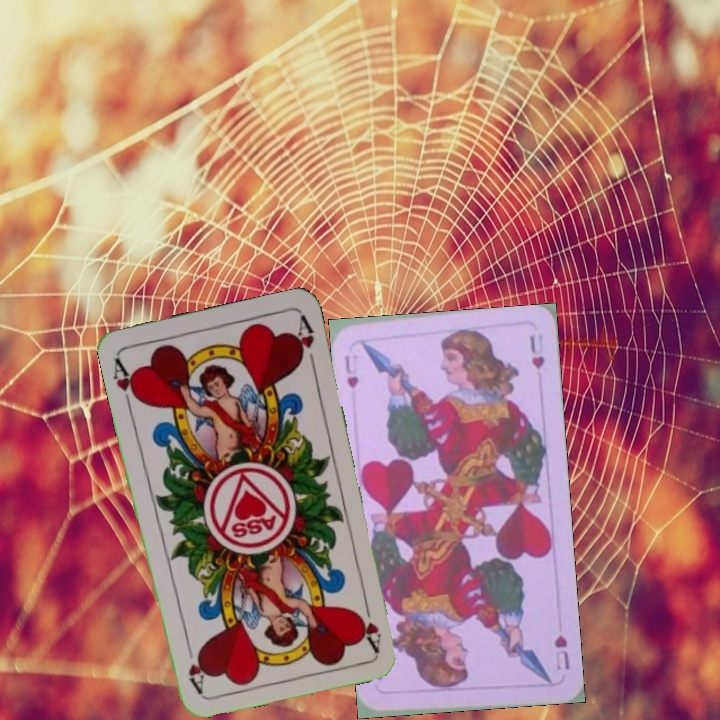HA: (109, 353, 143, 411), (352, 595, 384, 654)
HU: (550, 631, 572, 673), (340, 349, 362, 391)
